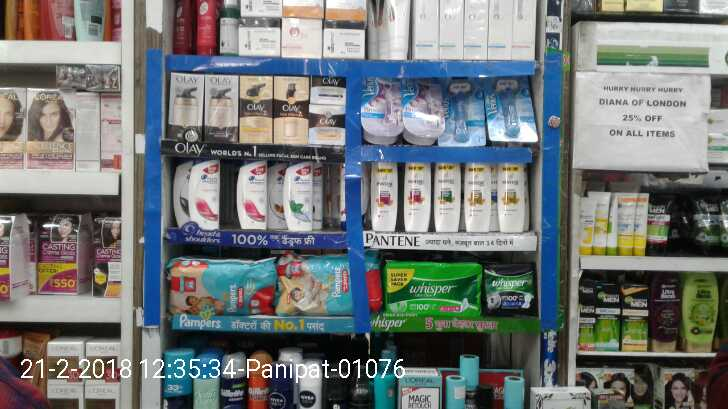gillete: (165, 349, 192, 409), (221, 354, 245, 409), (247, 352, 269, 409)
venus: (483, 79, 538, 142), (402, 77, 443, 142), (365, 77, 402, 142), (443, 80, 479, 142)
